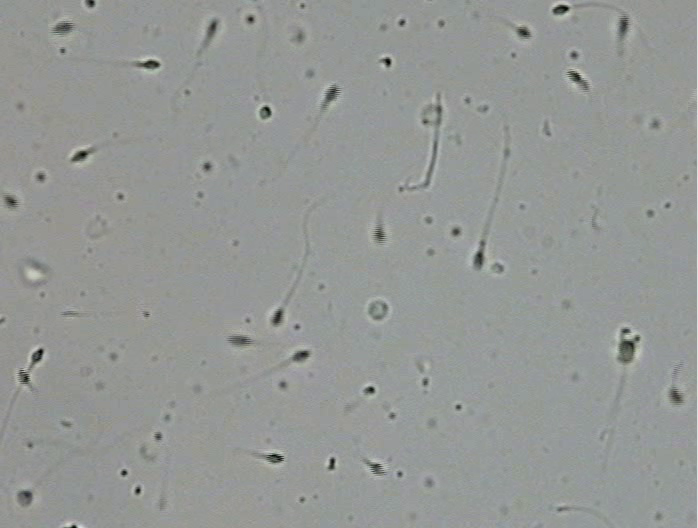Impurity: (368, 299, 388, 320)
S: (617, 339, 636, 363), (227, 334, 252, 347), (324, 84, 341, 102), (52, 22, 74, 35), (669, 386, 684, 405), (369, 461, 387, 476), (372, 227, 386, 245), (16, 368, 31, 384), (618, 16, 630, 36), (566, 69, 582, 83), (71, 150, 89, 162), (292, 350, 310, 362), (4, 195, 19, 209), (17, 491, 32, 505), (266, 453, 285, 464), (516, 26, 532, 39), (31, 348, 44, 363), (142, 59, 161, 69), (551, 5, 570, 15), (272, 309, 283, 326), (474, 251, 484, 269), (206, 21, 217, 37), (259, 106, 272, 119), (84, 1, 96, 8)
